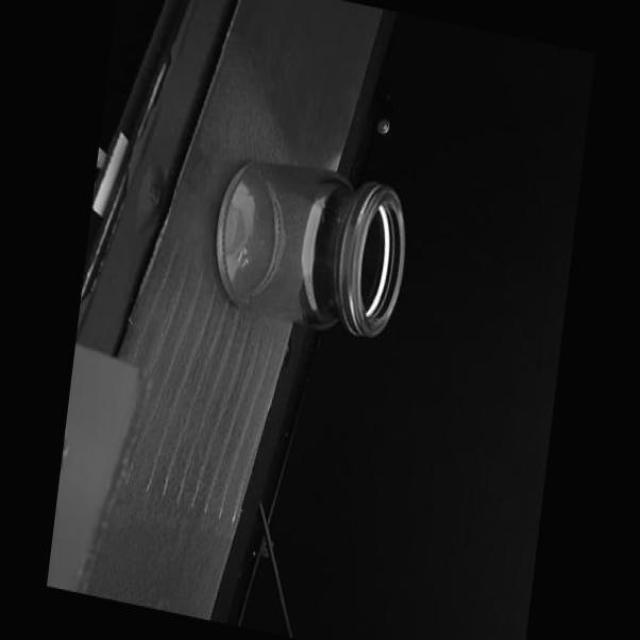defect: (319, 203, 325, 223)
glass: (202, 150, 412, 348)
